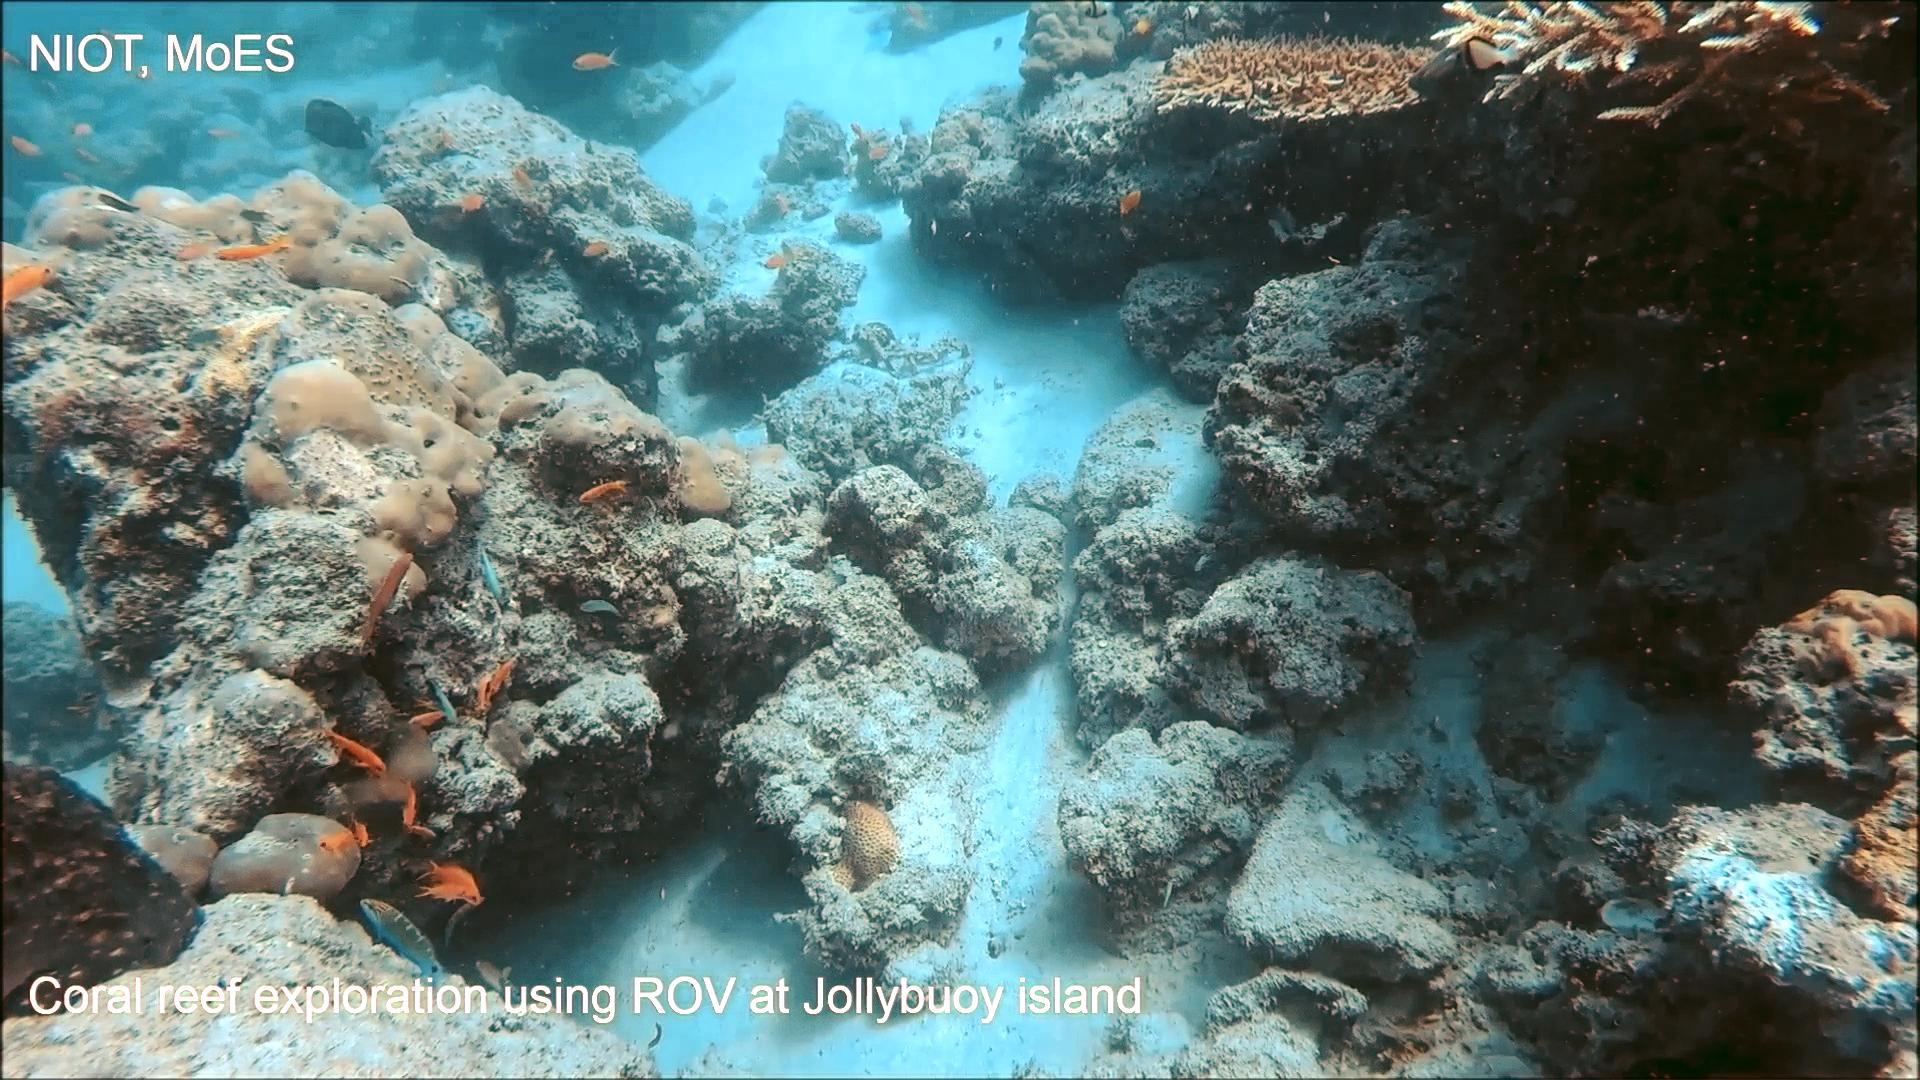Porites-Porites pukoensis: (229, 166, 553, 625)
